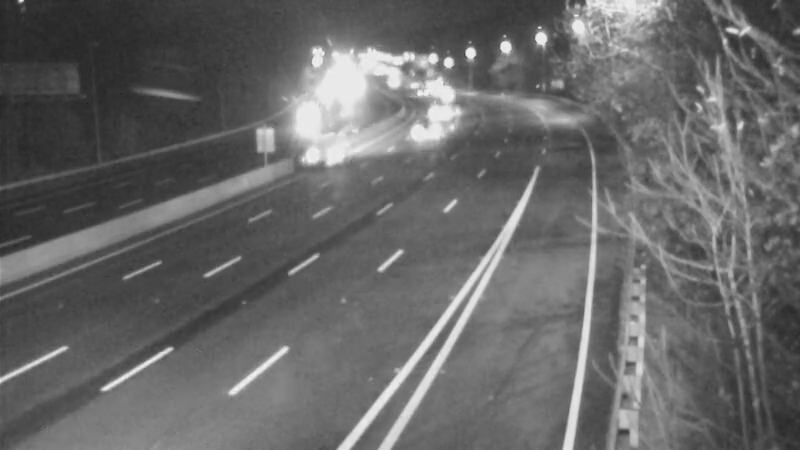vehicle: (287, 112, 367, 192), (411, 90, 461, 140), (399, 104, 449, 154), (288, 97, 338, 147)
